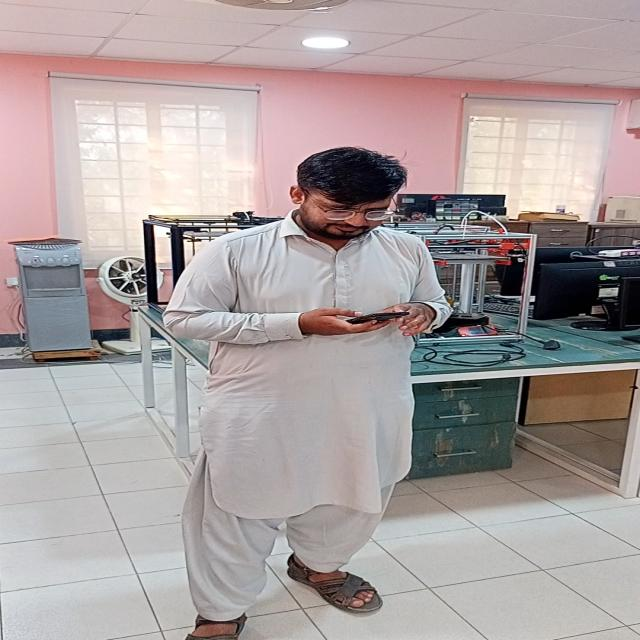dress: (164, 209, 449, 615)
glasses: (301, 198, 407, 231)
